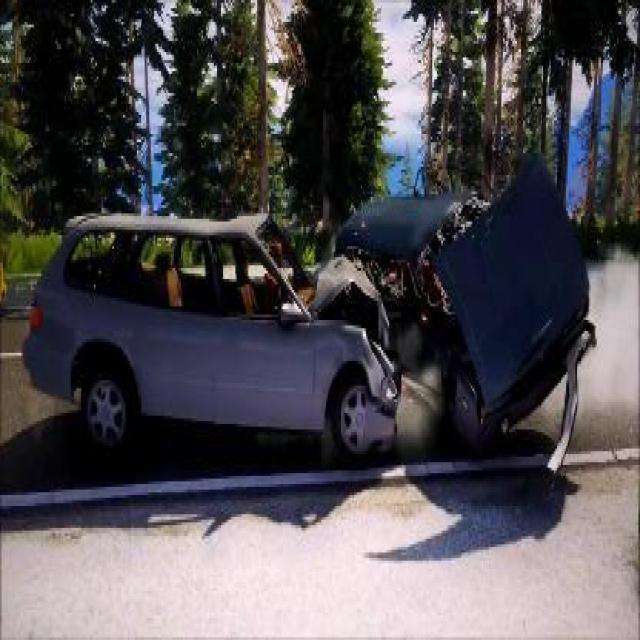accident: (23, 153, 588, 473)
